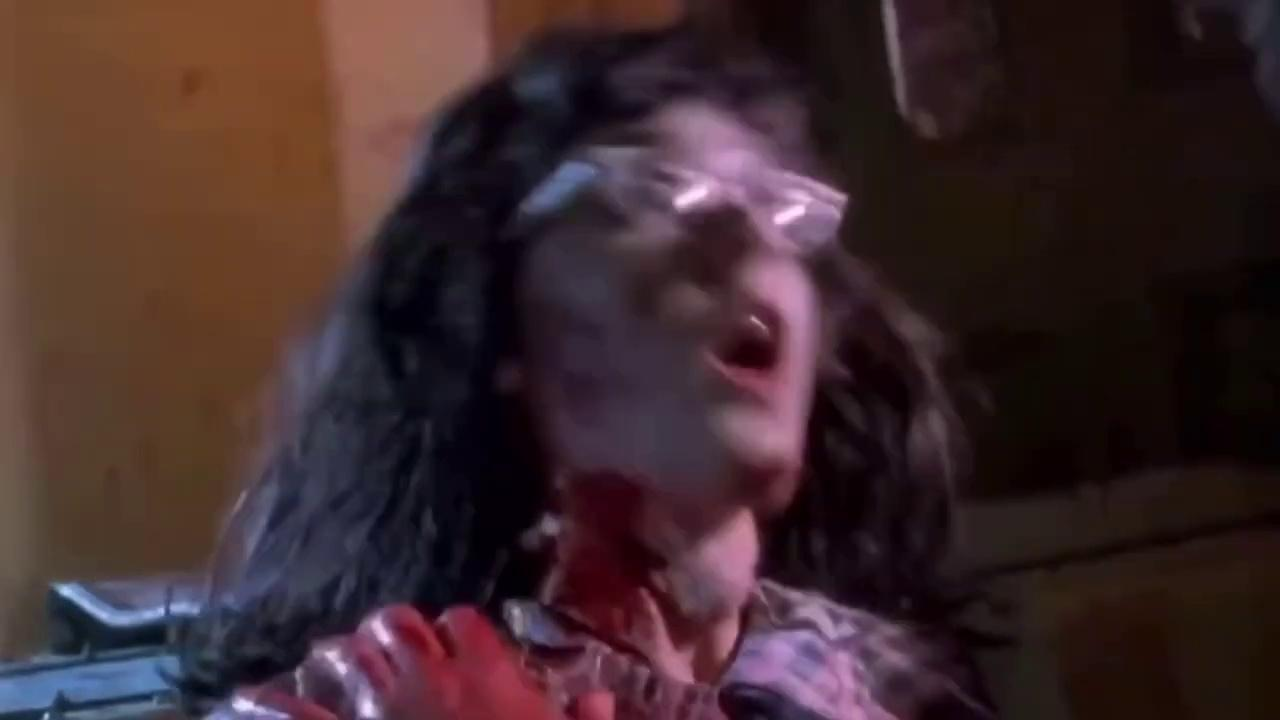Fire: (542, 480, 760, 685), (350, 606, 558, 719), (236, 682, 338, 720)
